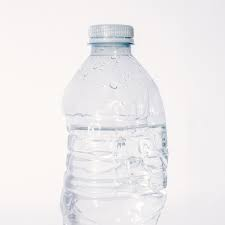Botella: (61, 26, 166, 224)
